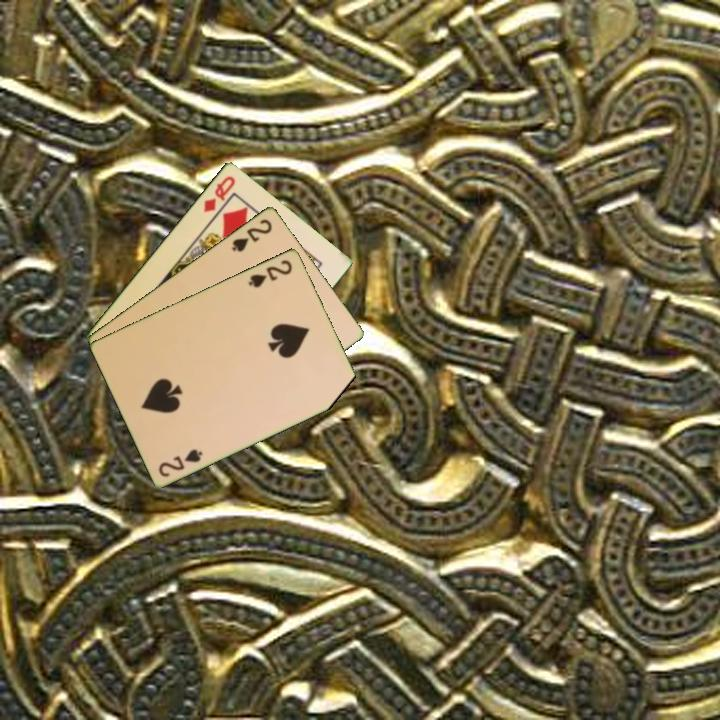2s: (228, 215, 275, 255), (155, 445, 206, 480), (245, 256, 295, 290)
Qd: (200, 172, 238, 215)
